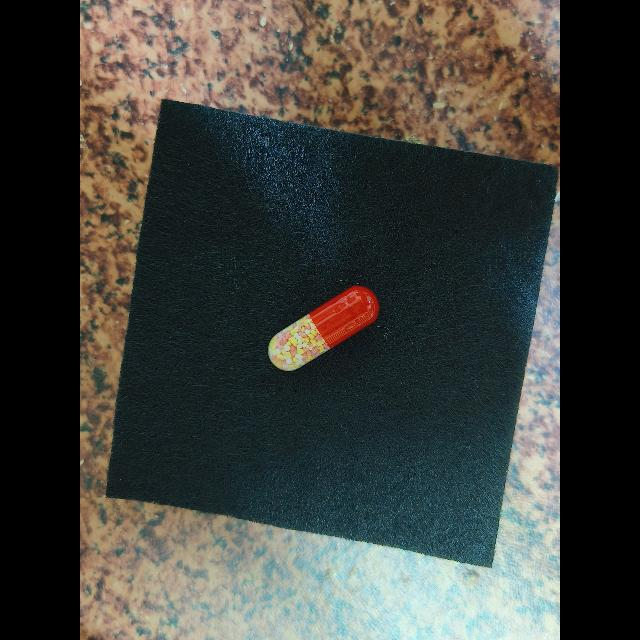Intact Capsule: (268, 285, 379, 371)
